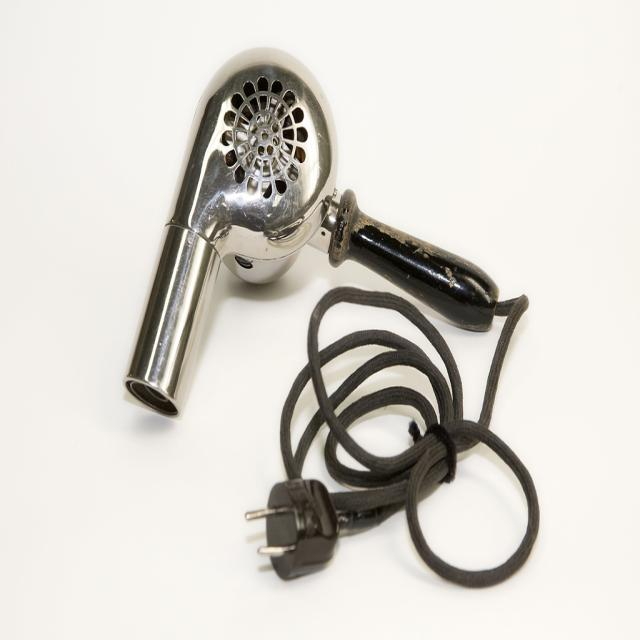dryer: (116, 28, 525, 454)
